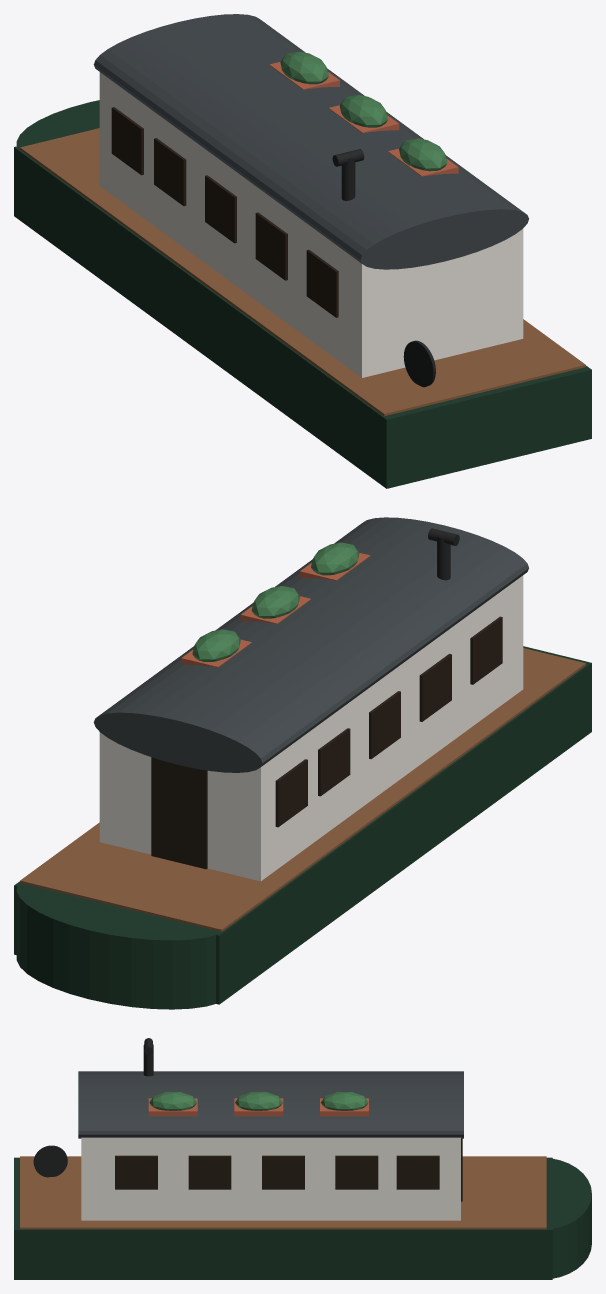
Rendered from houseboat-small.glb.
The picture shows the model from 3 angles, top to bottom: view 1: azimuth 30°, elevation 25°; view 2: azimuth 150°, elevation 25°; view 3: azimuth 270°, elevation 25°; orthographic projection. The views are drawn at different scales.
Visible parts, largest first — view 1: Cylinder.001, Cube, Cube.002, Cube.001, Cylinder, Cube.005, Cube.011, Cube.003, Cube.009, Cube.007, Icosphere.002, Icosphere (+2 smaller); view 2: Cylinder.001, Cube.002, Cube, Cube.001, Cylinder, Cube.023, Cube.003, Cube.005, Cube.009, Cube.011, Cube.007, Icosphere (+2 smaller); view 3: Cube, Cube.002, Cylinder.001, Cube.001, Cylinder, Cube.019, Cube.021, Cube.015, Cube.013, Cube.017, Cylinder.004, Icosphere (+5 smaller).
Boxes of the visible parts, x1,y1,x2,y2 form: Cylinder.001: [93, 14, 528, 269]; Cube: [14, 126, 591, 488]; Cube.002: [99, 72, 523, 377]; Cube.001: [20, 128, 585, 416]; Cylinder: [16, 100, 99, 146]; Cube.005: [255, 212, 287, 280]; Cube.011: [111, 107, 143, 175]; Cube.003: [306, 249, 338, 317]; Cube.009: [154, 138, 186, 206]; Cube.007: [205, 175, 236, 243]; Icosphere.002: [280, 51, 328, 84]; Icosphere: [399, 138, 447, 171]; Cylinder.001: [93, 517, 528, 772]; Cube.002: [99, 575, 523, 881]; Cube: [14, 646, 591, 1004]; Cube.001: [20, 648, 585, 931]; Cylinder: [16, 886, 230, 1009]; Cube.023: [151, 757, 207, 869]; Cube.003: [470, 616, 502, 684]; Cube.005: [419, 654, 451, 721]; Cube.009: [318, 728, 350, 796]; Cube.011: [275, 759, 307, 827]; Cube.007: [369, 691, 400, 759]; Icosphere: [311, 542, 359, 575]; Cube: [14, 1157, 552, 1279]; Cube.002: [81, 1137, 460, 1220]; Cylinder.001: [78, 1071, 463, 1138]; Cube.001: [20, 1156, 546, 1229]; Cylinder: [546, 1158, 591, 1278]; Cube.019: [335, 1155, 378, 1189]; Cube.021: [396, 1155, 439, 1189]; Cube.015: [188, 1155, 231, 1189]; Cube.013: [115, 1155, 157, 1189]; Cube.017: [262, 1155, 304, 1189]; Cylinder.004: [33, 1145, 67, 1177]; Icosphere: [149, 1092, 196, 1110].
Bounding box in the file's own units: 2.8 × 3.32 × 9.44.
